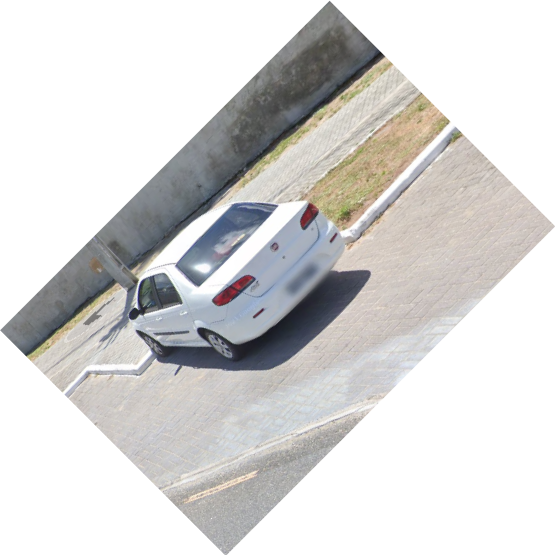car: (126, 198, 346, 374)
